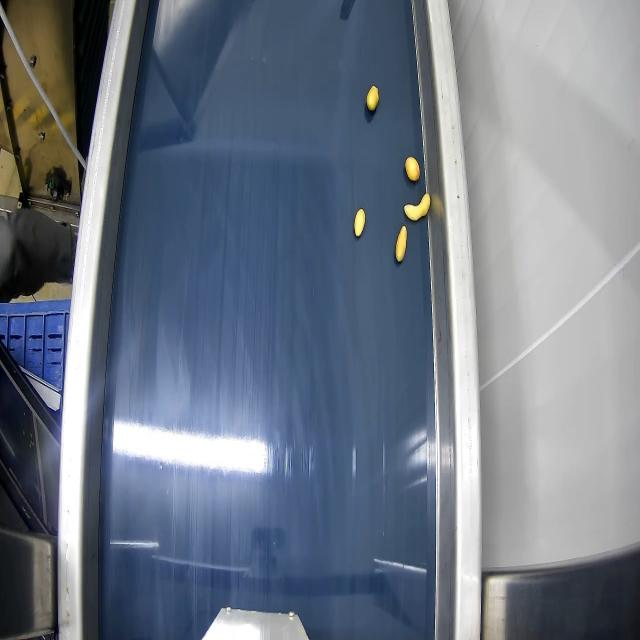Baby Potato: (403, 192, 431, 222), (394, 224, 408, 263), (352, 206, 366, 239), (404, 154, 421, 181), (365, 83, 380, 112)
